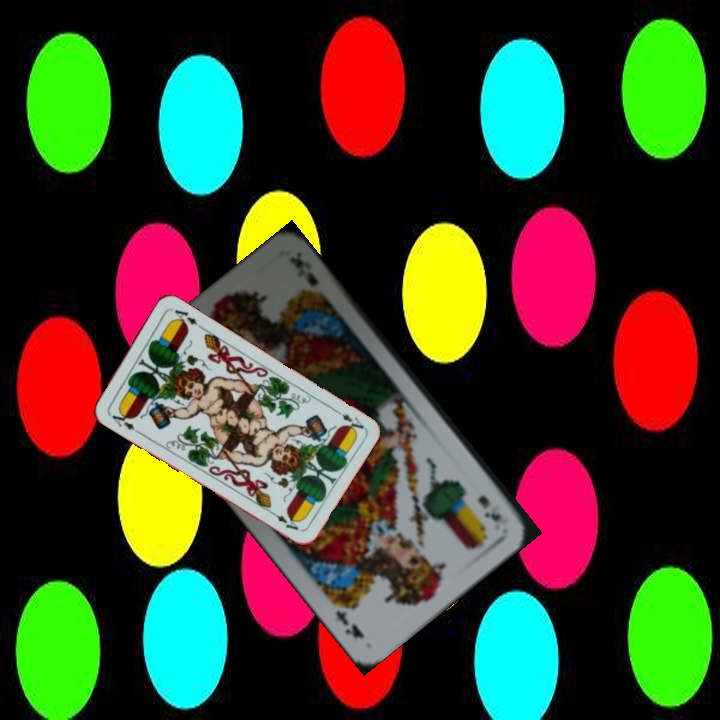EA: (105, 406, 142, 436), (330, 405, 366, 435)
EK: (473, 490, 504, 525)
